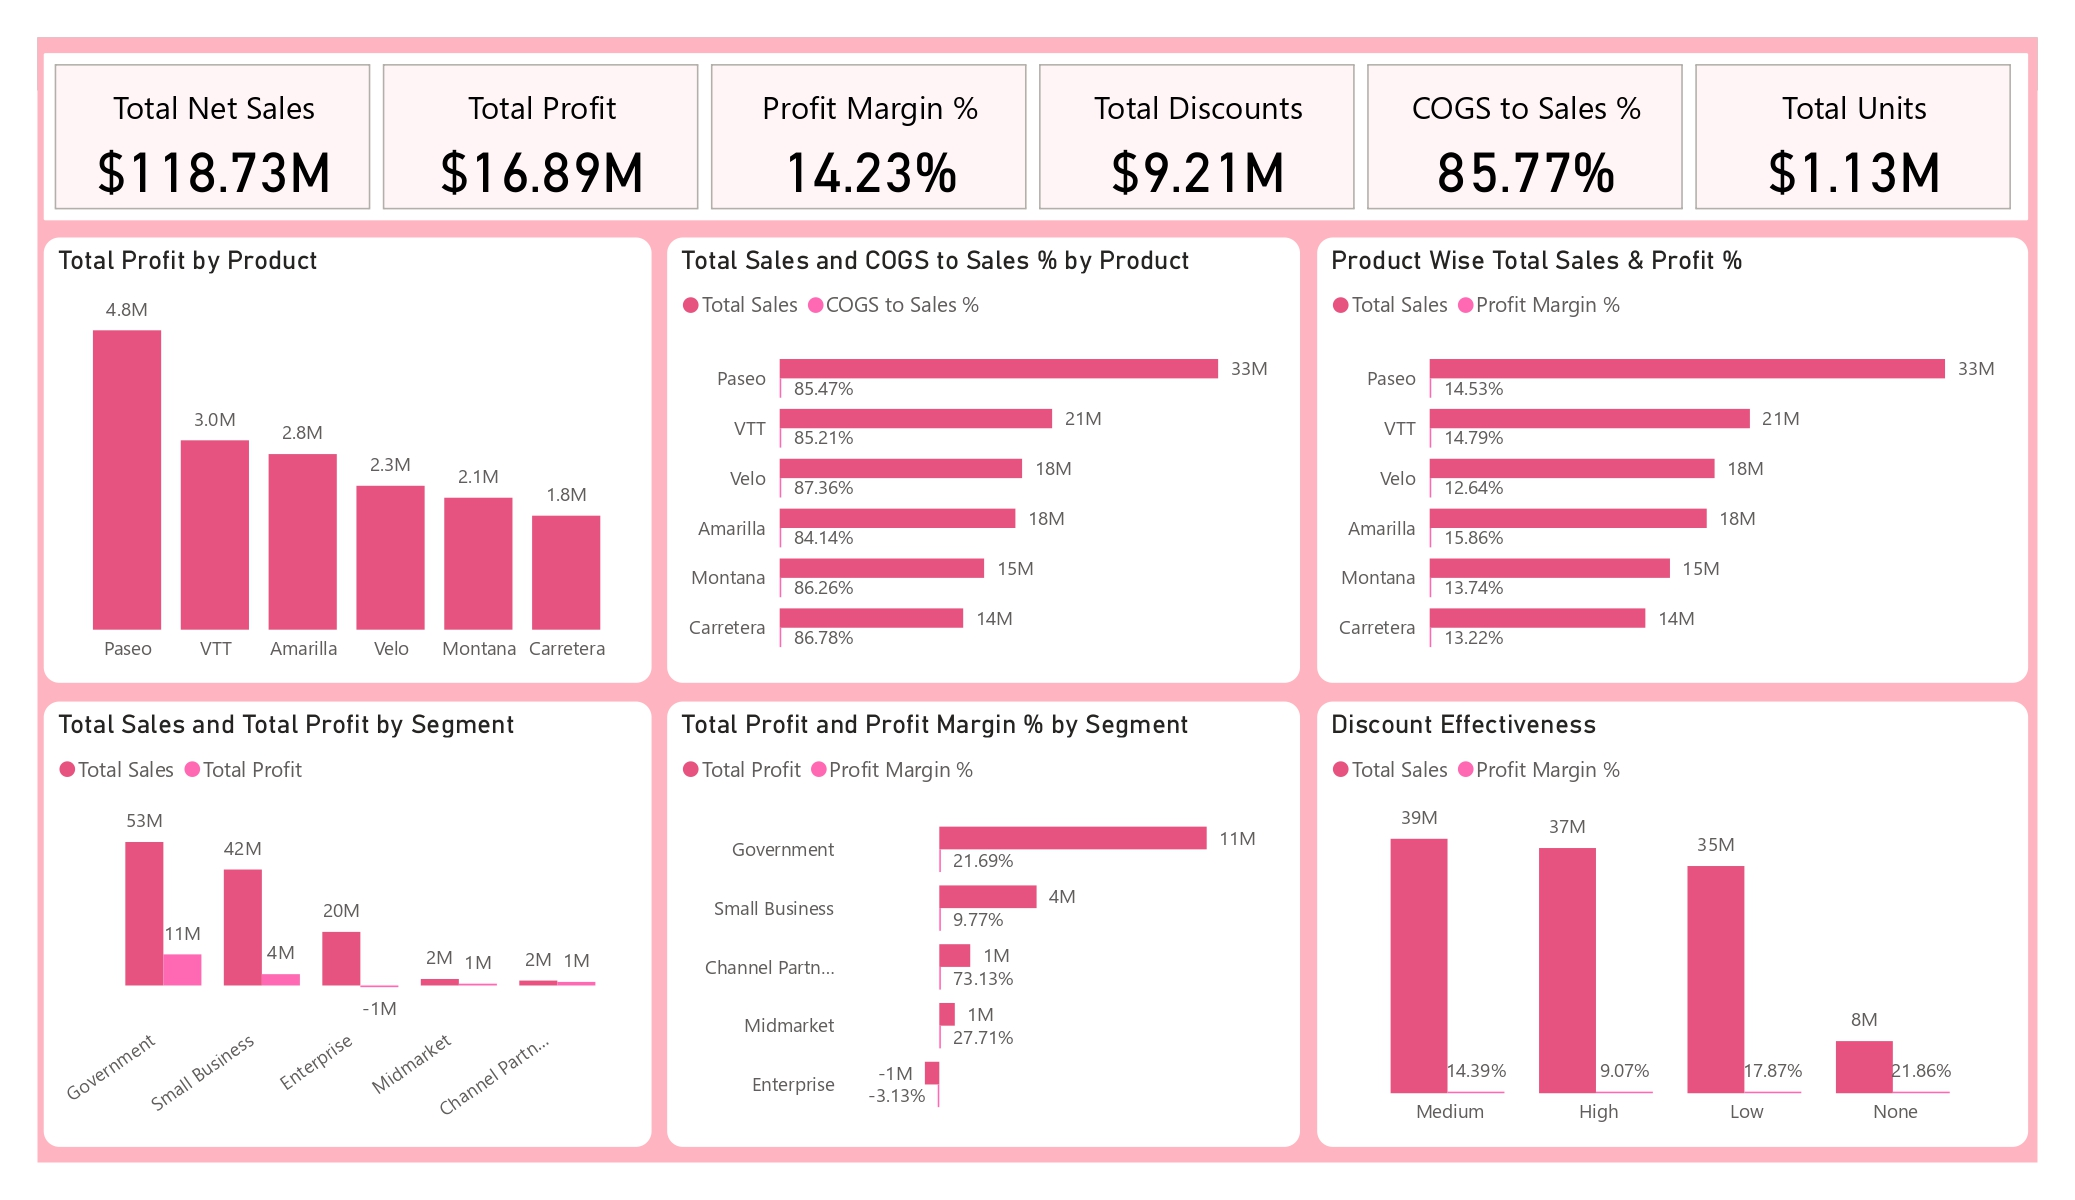

The page's visual inventory and layout, read from the dashboard file:
{"tool":"powerbi","page":{"name":"Page 2","canvas":[1280,720],"ordinal":1},"visuals":[{"type":"clusteredBarChart","fields":{"Category":["financial_data. Product "],"Y":["financial_data.Total Sales","financial_data.COGS to Sales %"]},"box":[403.2,181.4,404.6,250.6],"z":0},{"type":"cardVisual","fields":{"Data":["financial_data.Total Net Sales","financial_data.Total Profit","financial_data.Profit Margin %","financial_data.Total Discounts","financial_data.COGS to Sales %","financial_data.Total Units"]},"box":[4.3,67.7,1270.1,103.7],"z":1000},{"type":"clusteredBarChart","title":"Product  Wise Total Sales & Profit %","fields":{"Category":["financial_data. Product "],"Y":["financial_data.Total Sales","financial_data.Profit Margin %"]},"box":[819.4,181.4,455,250.6],"z":2000},{"type":"columnChart","fields":{"Category":["financial_data. Product "],"Y":["financial_data.Total Profit"]},"box":[4.3,181.4,388.8,250.6],"z":3000},{"type":"clusteredColumnChart","fields":{"Category":["financial_data.Segment"],"Y":["financial_data.Total Sales","financial_data.Total Profit"]},"box":[4.3,442.1,388.8,267.8],"z":4000},{"type":"clusteredBarChart","fields":{"Category":["financial_data.Segment"],"Y":["financial_data.Total Profit","financial_data.Profit Margin %"]},"box":[403.2,442.1,404.6,267.8],"z":5000},{"type":"clusteredColumnChart","title":"Discount Effectiveness","fields":{"Category":["financial_data. Discount Band "],"Y":["financial_data.Total Sales","financial_data.Profit Margin %"]},"box":[819.4,442.1,455,267.8],"z":6000},{"type":"textbox","box":[4.3,10.1,1270.1,51.8],"z":7000},{"type":"image","box":[414.7,10.1,76.3,51.8],"z":8000}]}

Visuals, with their boxes in screenshot pixels (x1, y1, x2, y2):
clusteredBarChart - financial_data. Product  x financial_data.Total Sales: pyautogui.locateOnScreen(668, 321, 1300, 712)
cardVisual - financial_data.Total Net Sales x financial_data.Total Profit: pyautogui.locateOnScreen(44, 143, 2029, 305)
"Product  Wise Total Sales & Profit %" clusteredBarChart: pyautogui.locateOnScreen(1318, 321, 2029, 712)
columnChart - financial_data. Product  x financial_data.Total Profit: pyautogui.locateOnScreen(44, 321, 652, 712)
clusteredColumnChart - financial_data.Segment x financial_data.Total Sales: pyautogui.locateOnScreen(44, 728, 652, 1147)
clusteredBarChart - financial_data.Segment x financial_data.Total Profit: pyautogui.locateOnScreen(668, 728, 1300, 1147)
"Discount Effectiveness" clusteredColumnChart: pyautogui.locateOnScreen(1318, 728, 2029, 1147)
textbox: pyautogui.locateOnScreen(44, 53, 2029, 134)
image: pyautogui.locateOnScreen(685, 53, 805, 134)
